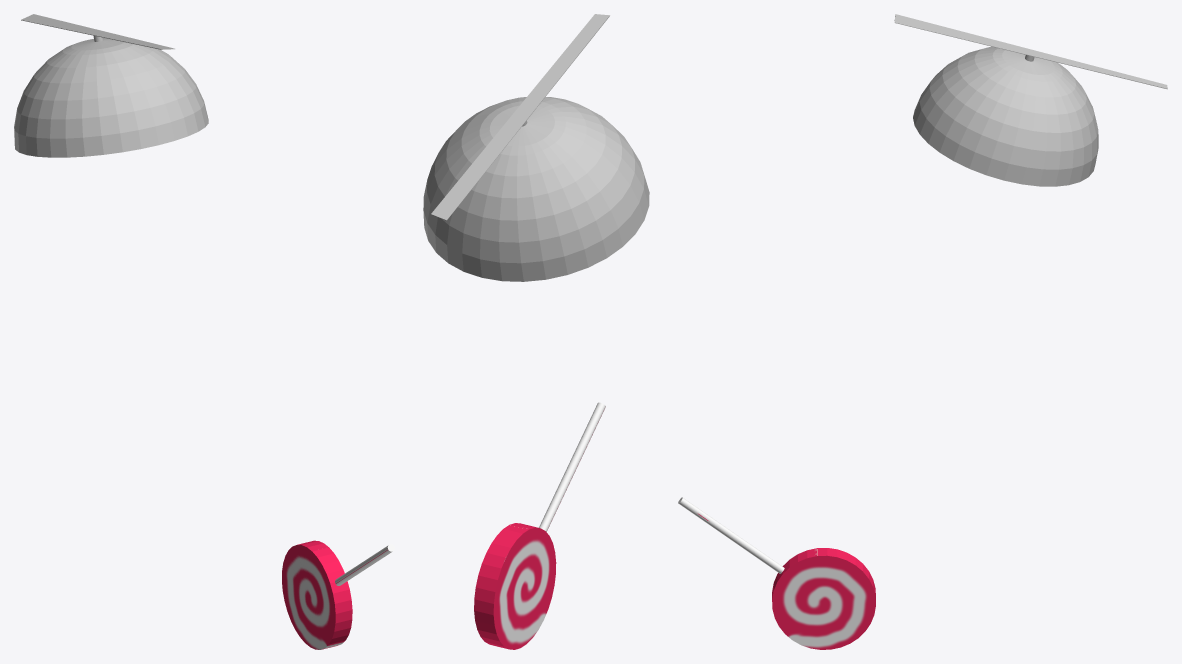
The model's file is propeller_cosmetic.fbx.
3 renders of one model, left to right at view 1: azimuth 30°, elevation 25°; view 2: azimuth 150°, elevation 25°; view 3: azimuth 270°, elevation 25°, orthographic. The views are drawn at different scales.
Parts seen in each view (by area): view 1: Cube, Cylinder.001; view 2: Cube, Cylinder.001; view 3: Cube, Cylinder.001.
Boxes of the visible parts, x1,y1,x2,y2 form: Cube: (14,14,208,157); Cylinder.001: (282,540,394,649); Cube: (423,14,649,281); Cylinder.001: (474,402,605,649); Cube: (894,14,1167,186); Cylinder.001: (678,497,875,649).
Bounding box in the file's own units: 104 × 289 × 223.
